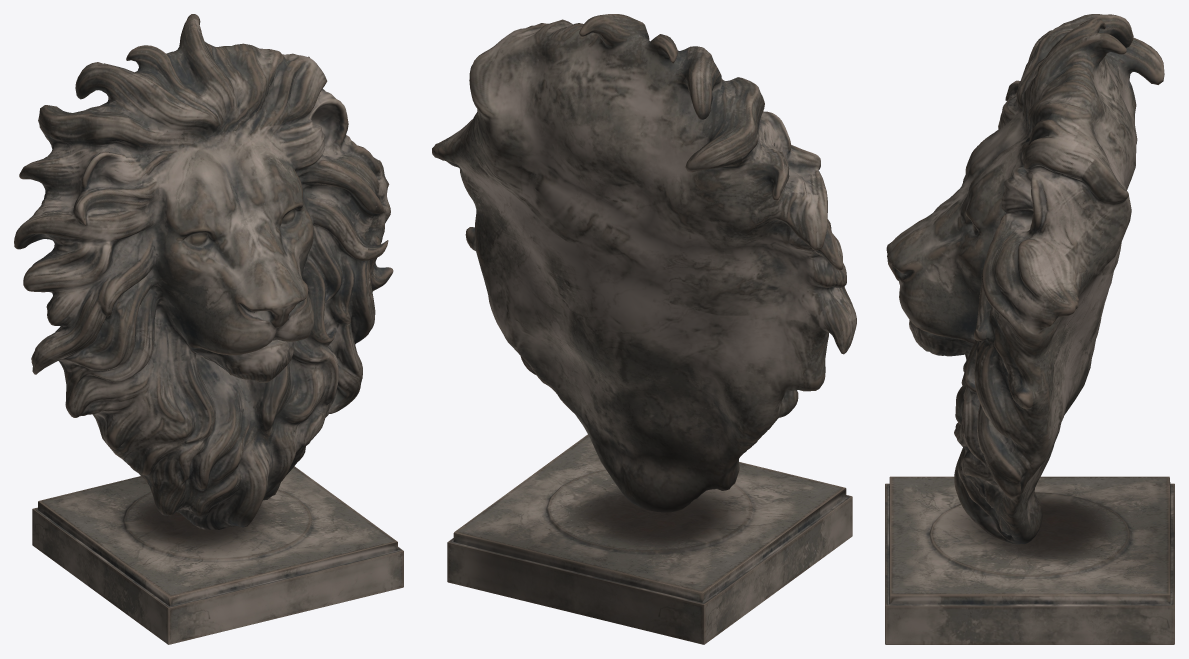
Rendered from lion_head.glb.
The picture shows the model from 3 angles, left to right: view 1: azimuth 30°, elevation 25°; view 2: azimuth 150°, elevation 25°; view 3: azimuth 270°, elevation 25°; orthographic projection. The views are drawn at different scales.
Parts seen in each view (by area): view 1: lion_head; view 2: lion_head; view 3: lion_head.
Part boxes in pixels (<box>): lion_head: <box>14,14,403,644</box>; lion_head: <box>432,14,856,644</box>; lion_head: <box>885,14,1174,644</box>.
Size of the model in its own units: 0.3208 by 0.4364 by 0.2066.
Materials: 1 (1 with a texture image).
